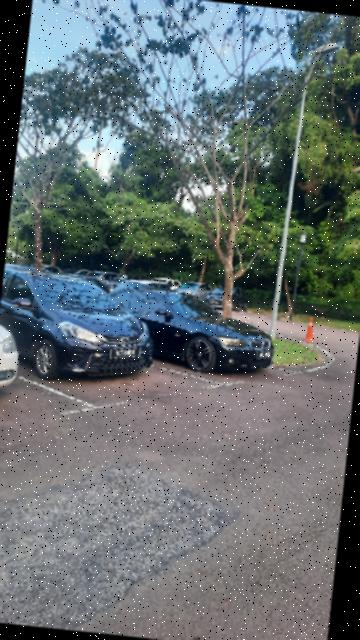License_Plate: (109, 345, 147, 363)
car: (1, 265, 172, 390), (103, 281, 284, 381)
